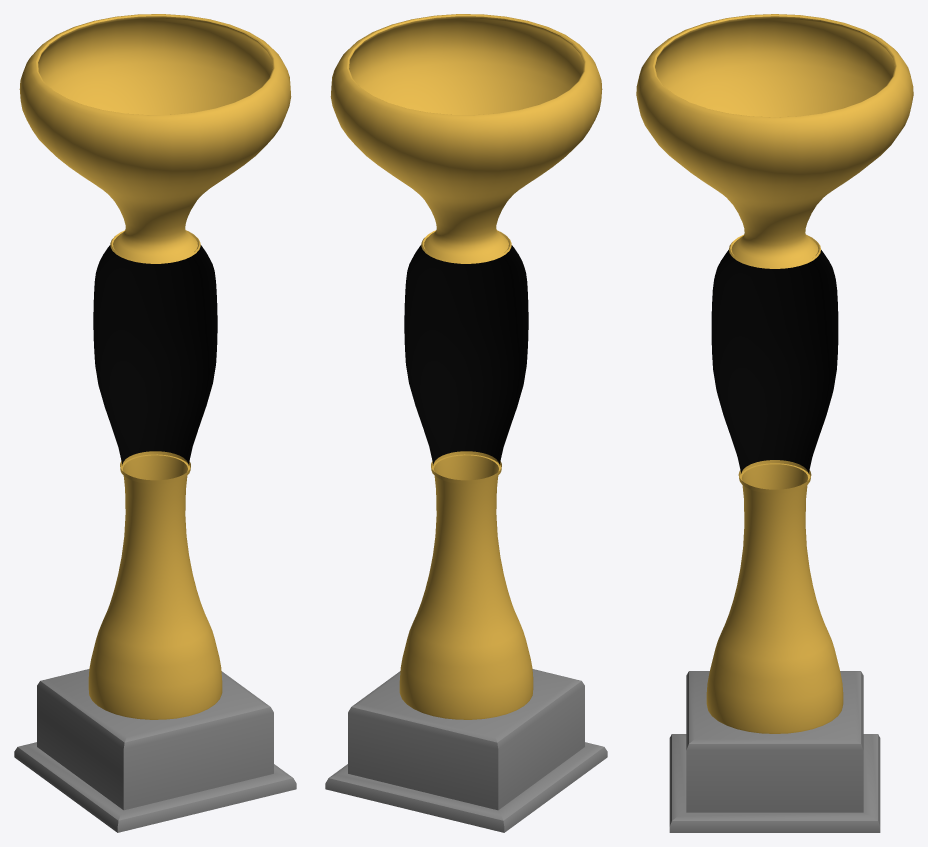
The model's file is puchar4.fbx.
The picture shows the model from 3 angles, left to right: view 1: azimuth 30°, elevation 25°; view 2: azimuth 150°, elevation 25°; view 3: azimuth 270°, elevation 25°; orthographic projection.
Parts seen in each view (by area): view 1: Vert; view 2: Vert; view 3: Vert.
Part boxes in pixels (bbox=[...]): Vert: bbox=[14, 14, 296, 832]; Vert: bbox=[325, 14, 607, 832]; Vert: bbox=[636, 14, 913, 832].
Size of the model in its own units: 478 by 1373 by 478.
